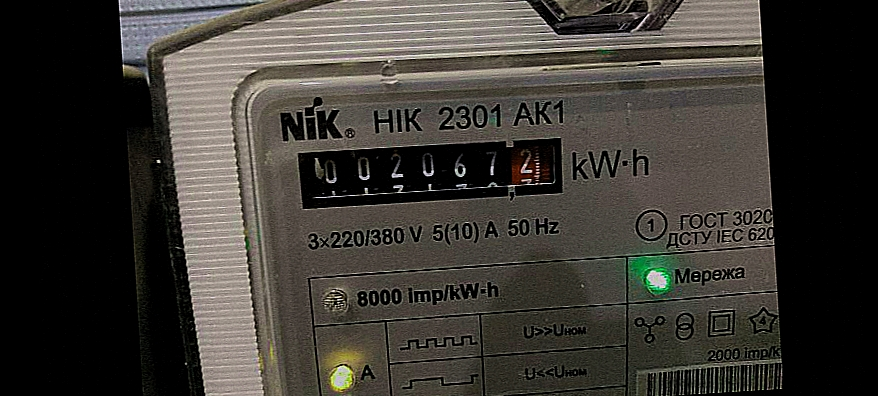0: (320, 156, 340, 186), (417, 148, 436, 177), (354, 152, 372, 182)
2: (516, 145, 535, 175), (387, 150, 405, 180)
6: (450, 149, 469, 179)
7: (483, 147, 500, 178)
screen: (283, 123, 579, 223)
